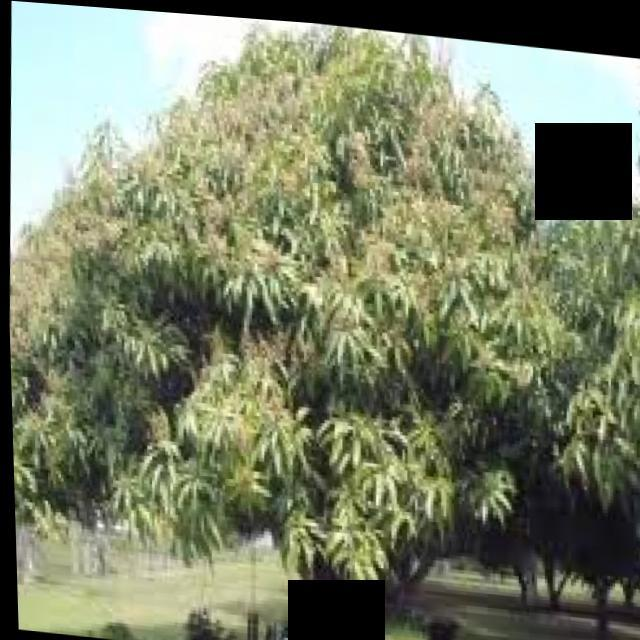Tree: (83, 6, 569, 640)
